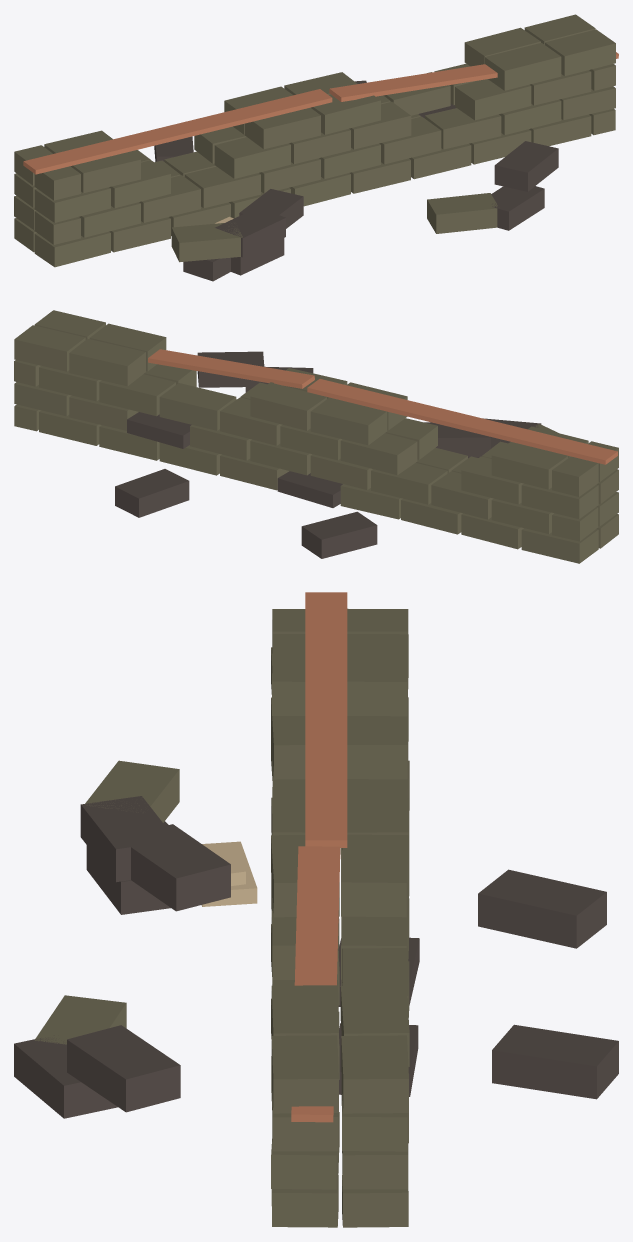
File: SM_MuroSacos_v3_Tablon_e1_Danado_LOD0.fbx
3 renders of one model, top to bottom at view 1: azimuth 30°, elevation 25°; view 2: azimuth 150°, elevation 25°; view 3: azimuth 270°, elevation 25°, orthographic. The views are drawn at different scales.
Parts seen in each view (by area): view 1: SM_bloques.muro_sacos_estados_v13_LOD0; view 2: SM_bloques.muro_sacos_estados_v13_LOD0; view 3: SM_bloques.muro_sacos_estados_v13_LOD0.
Part boxes in pixels (x1,y1,x2,y2): SM_bloques.muro_sacos_estados_v13_LOD0: [14, 14, 618, 281]; SM_bloques.muro_sacos_estados_v13_LOD0: [14, 310, 618, 563]; SM_bloques.muro_sacos_estados_v13_LOD0: [14, 592, 618, 1227].
Bounding box in the file's own units: 8.2 × 1.26 × 4.33.
